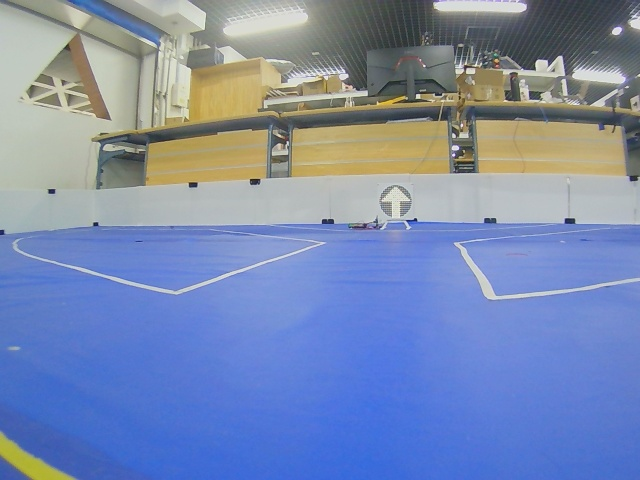straight_yellow: (378, 182, 414, 220)
